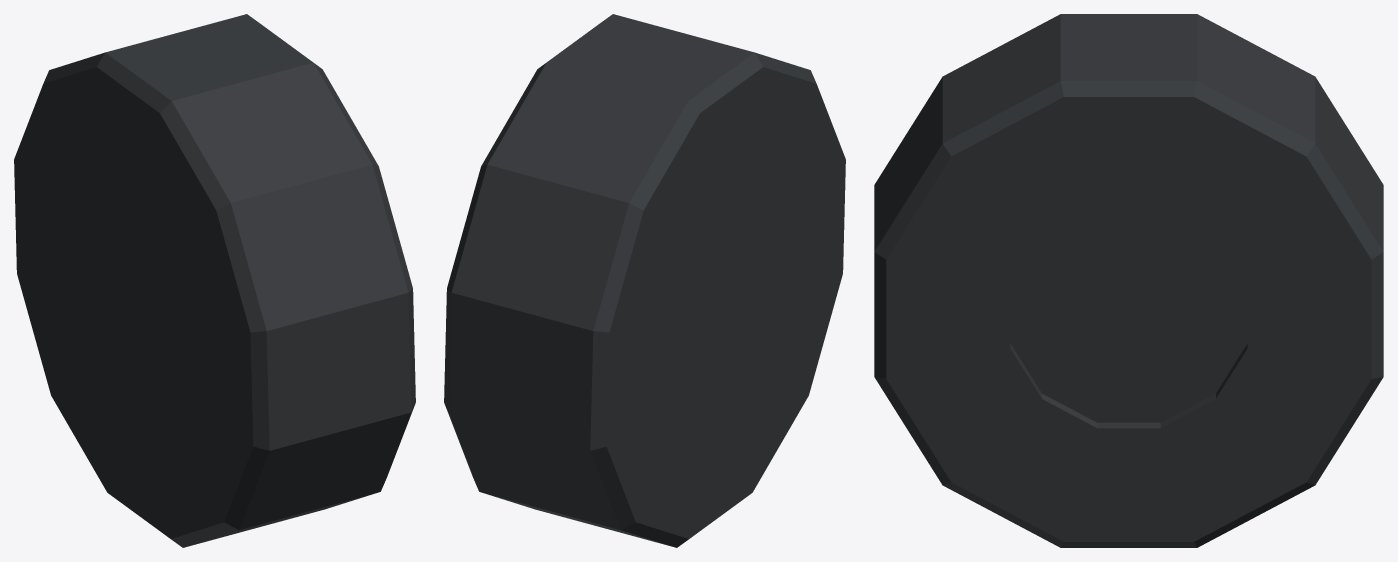
File: Shotgun1_02_2.fbx
The picture shows the model from 3 angles, left to right: view 1: azimuth 30°, elevation 25°; view 2: azimuth 150°, elevation 25°; view 3: azimuth 270°, elevation 25°; orthographic projection. The views are drawn at different scales.
Visible parts, largest first — view 1: Shotgun1_02_2; view 2: Shotgun1_02_2; view 3: Shotgun1_02_2.
Part boxes in pixels (x1=…): Shotgun1_02_2: x1=14, y1=14, x2=415, y2=547; Shotgun1_02_2: x1=444, y1=14, x2=845, y2=547; Shotgun1_02_2: x1=874, y1=14, x2=1383, y2=547.
Size of the model in its own units: 0.0771 by 0.1927 by 0.1912.
